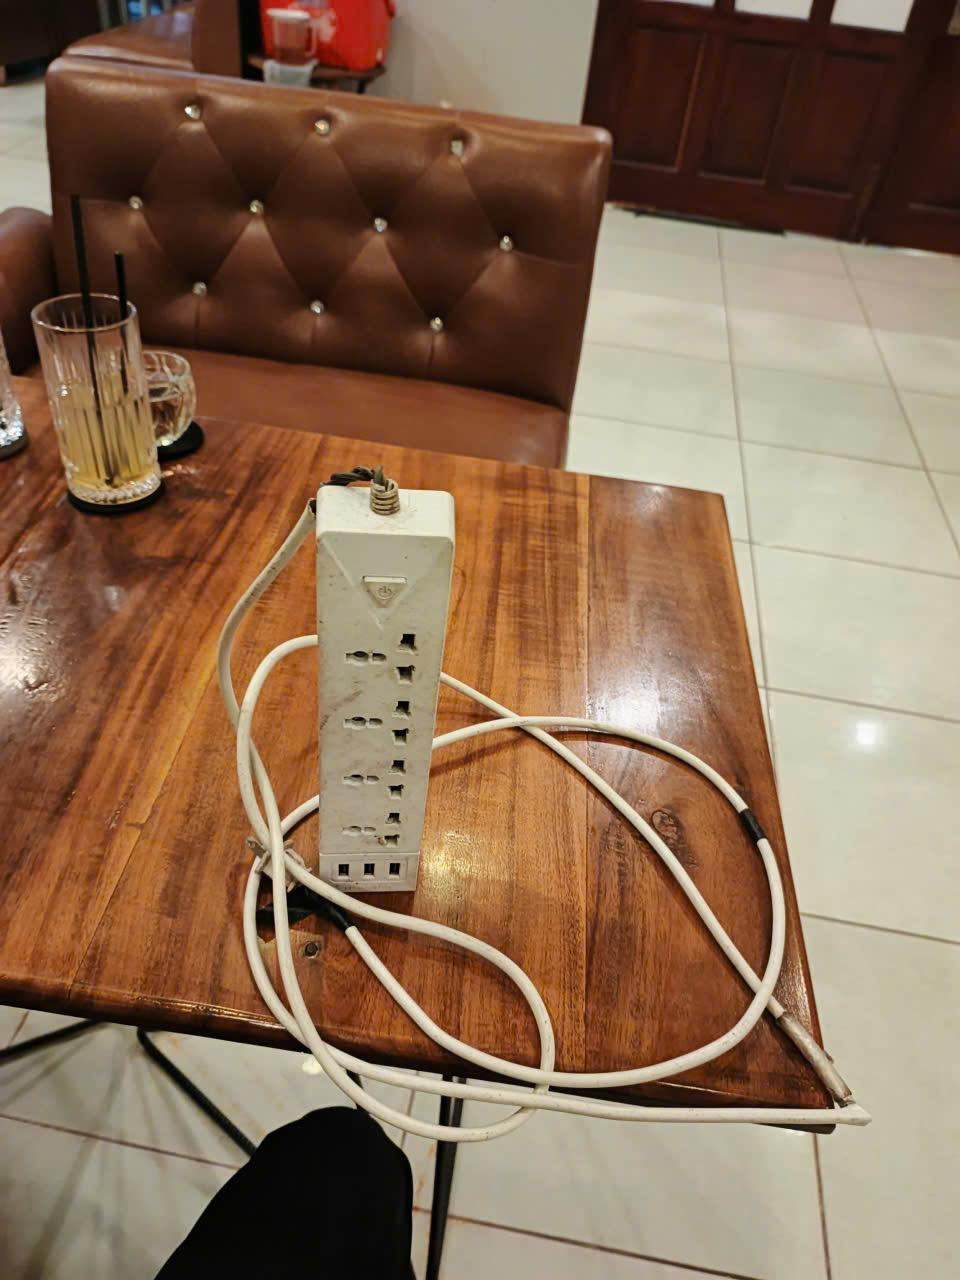Con lai: (215, 466, 870, 1143)
Vo co: (27, 198, 202, 517)
